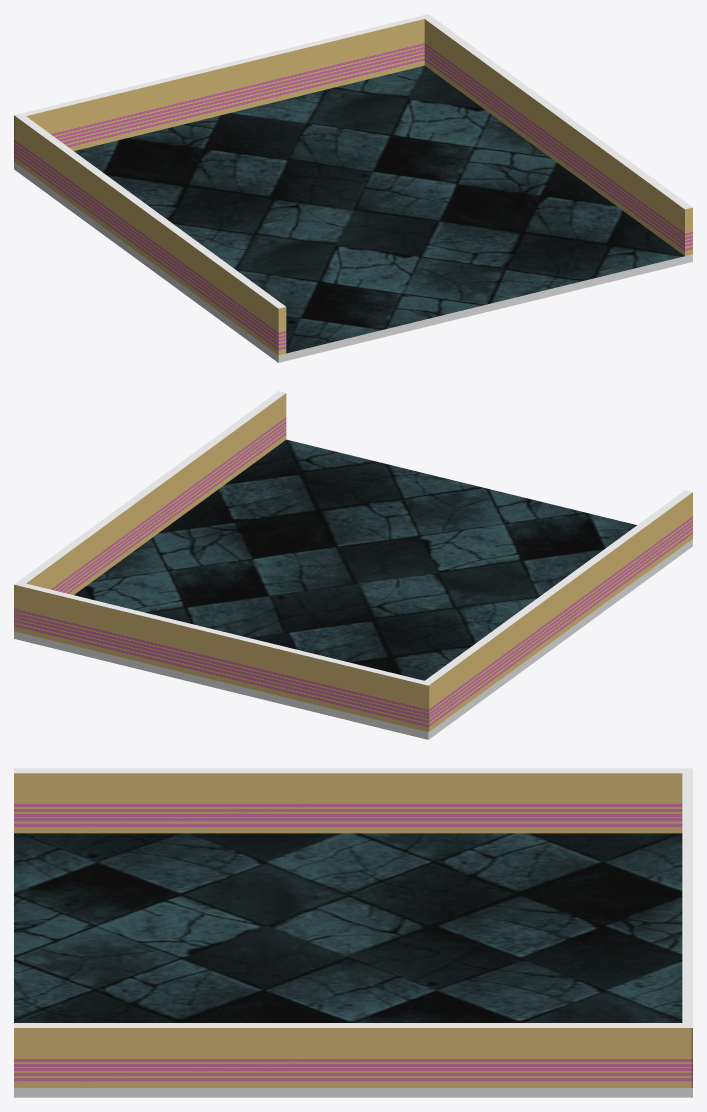
File: Wall2.obj
3 renders of one model, top to bottom at view 1: azimuth 30°, elevation 25°; view 2: azimuth 150°, elevation 25°; view 3: azimuth 270°, elevation 25°, orthographic. The views are drawn at different scales.
Visible parts, largest first — view 1: Wall___Copy:pCube326 Wall___Copy:polySurface2 Wall___Copy:polySu, Wall___Copy:polySurface1 group; view 2: Wall___Copy:pCube326 Wall___Copy:polySurface2 Wall___Copy:polySu, Wall___Copy:polySurface1 group; view 3: Wall___Copy:pCube326 Wall___Copy:polySurface2 Wall___Copy:polySu, Wall___Copy:polySurface1 group.
Boxes of the visible parts, x1=… form: Wall___Copy:pCube326 Wall___Copy:polySurface2 Wall___Copy:polySu: x1=14, y1=16, x2=692, y2=362; Wall___Copy:polySurface1 group: x1=14, y1=14, x2=692, y2=308; Wall___Copy:pCube326 Wall___Copy:polySurface2 Wall___Copy:polySu: x1=14, y1=393, x2=692, y2=739; Wall___Copy:polySurface1 group: x1=14, y1=391, x2=692, y2=685; Wall___Copy:pCube326 Wall___Copy:polySurface2 Wall___Copy:polySu: x1=14, y1=773, x2=692, y2=1097; Wall___Copy:polySurface1 group: x1=14, y1=768, x2=692, y2=1027.
Bounding box in the file's own units: 92.33 × 11.54 × 102.
